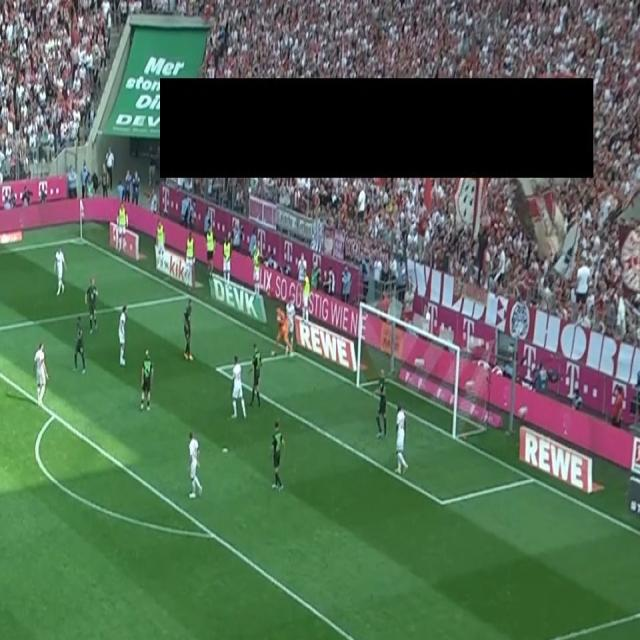ball: (277, 312, 281, 323)
